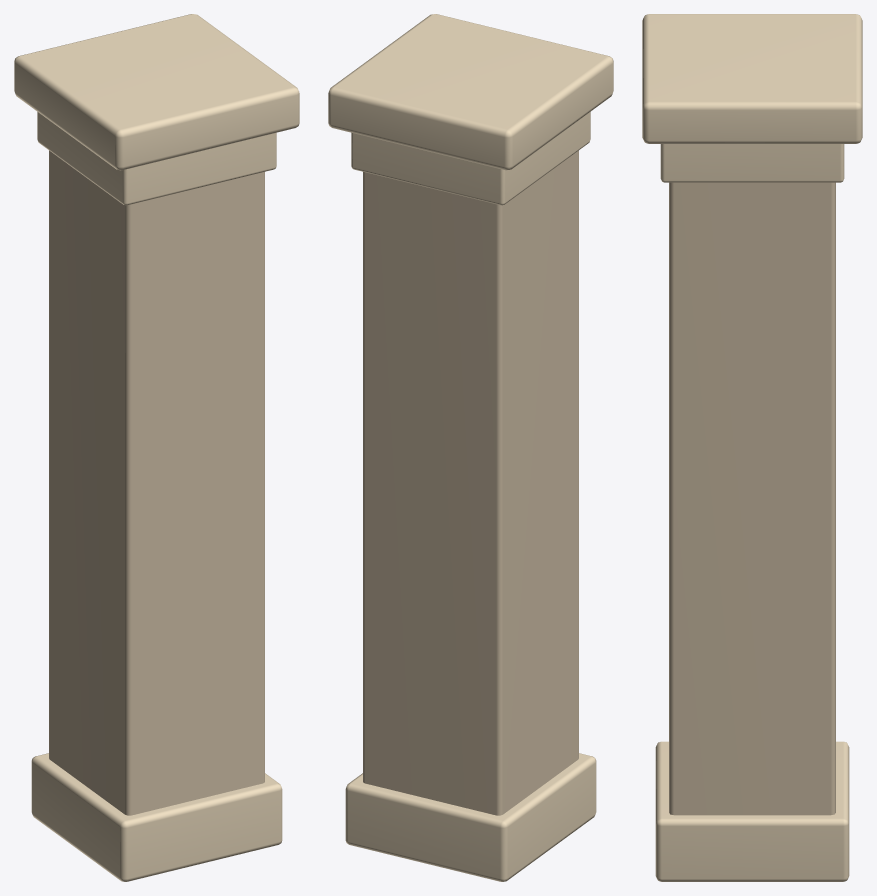
File: GardenCornerPost.fbx
The picture shows the model from 3 angles, left to right: view 1: azimuth 30°, elevation 25°; view 2: azimuth 150°, elevation 25°; view 3: azimuth 270°, elevation 25°; orthographic projection. The views are drawn at different scales.
Parts seen in each view (by area): view 1: GardenCornerPost.001; view 2: GardenCornerPost.001; view 3: GardenCornerPost.001.
Boxes of the visible parts, bbox=[...] form: GardenCornerPost.001: bbox=[14, 14, 299, 881]; GardenCornerPost.001: bbox=[328, 14, 613, 881]; GardenCornerPost.001: bbox=[642, 14, 862, 881].
Bounding box in the file's own units: 0.66 × 2.6 × 0.66.
